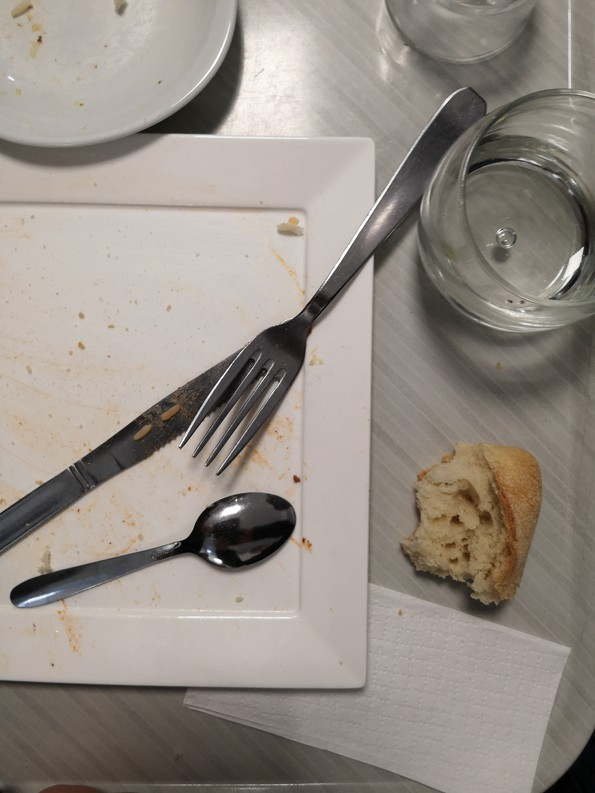cutlery: (175, 82, 495, 470), (1, 341, 283, 544), (1, 483, 313, 614)
orga: (422, 449, 538, 598)
